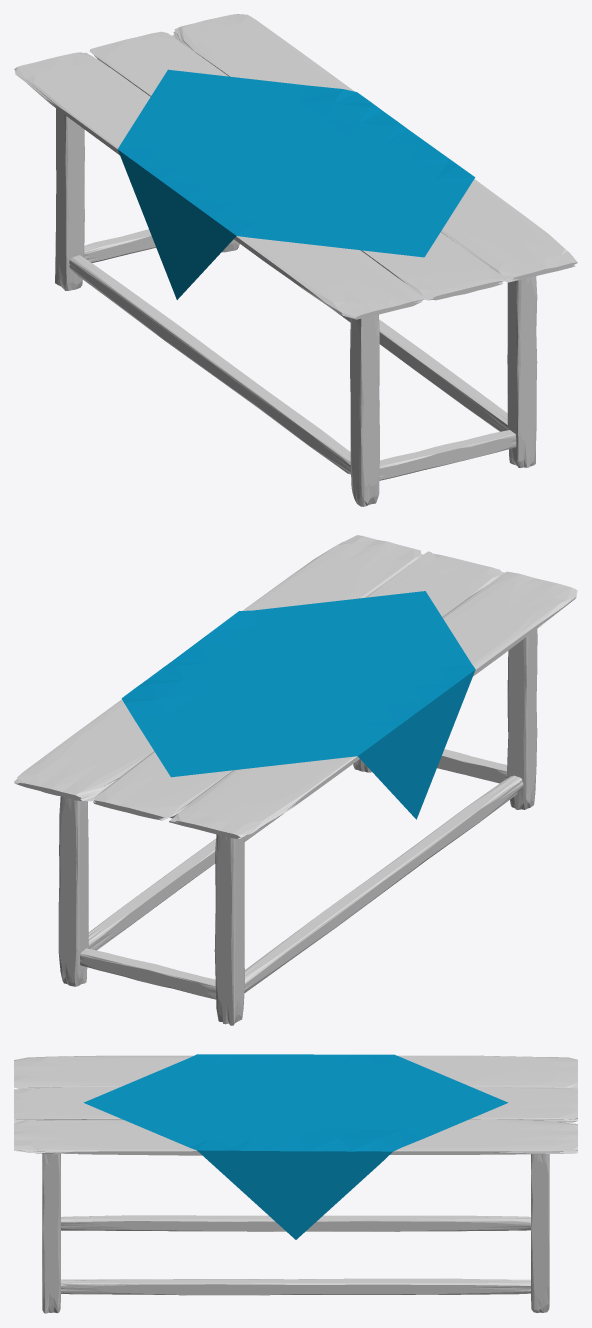
Rendered from Table.fbx.
The picture shows the model from 3 angles, top to bottom: view 1: azimuth 30°, elevation 25°; view 2: azimuth 150°, elevation 25°; view 3: azimuth 270°, elevation 25°; orthographic projection. The views are drawn at different scales.
Parts seen in each view (by area): view 1: Table; view 2: Table; view 3: Table.
Part boxes in pixels (x1=…): Table: x1=14, y1=14, x2=577, y2=506; Table: x1=14, y1=535, x2=577, y2=1025; Table: x1=14, y1=1054, x2=577, y2=1313.
Size of the model in its own units: 91.15 by 77.39 by 225.
